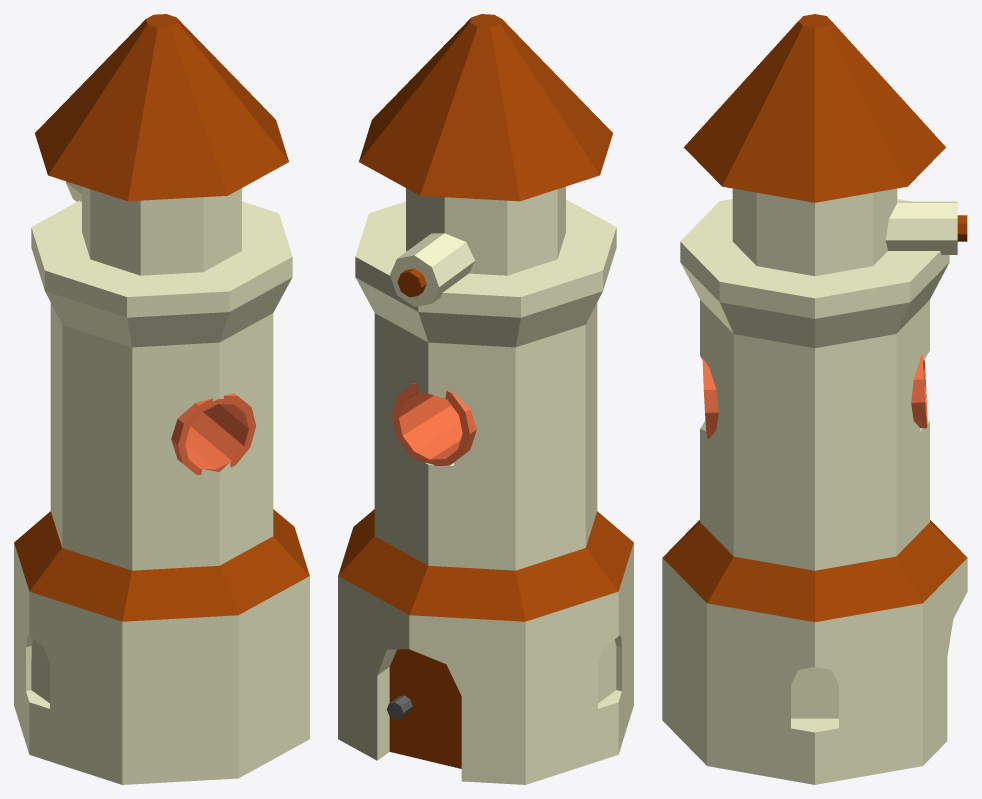
The model's file is WindmillBase.glb.
3 views of the same model, side by side, from view 1: azimuth 30°, elevation 25°; view 2: azimuth 150°, elevation 25°; view 3: azimuth 270°, elevation 25° (orthographic).
Visible parts, largest first — view 1: Cylinder, Cylinder.003; view 2: Cylinder, Cylinder.003, Cylinder.002; view 3: Cylinder, Cylinder.002, Cylinder.003.
Boxes of the visible parts, bbox=[...] form: Cylinder: bbox=[14, 14, 309, 784]; Cylinder.003: bbox=[171, 393, 256, 474]; Cylinder: bbox=[338, 14, 633, 784]; Cylinder.003: bbox=[391, 383, 476, 466]; Cylinder.002: bbox=[390, 233, 474, 306]; Cylinder: bbox=[662, 14, 967, 784]; Cylinder.002: bbox=[885, 201, 967, 254]; Cylinder.003: bbox=[702, 354, 927, 438].
Bounding box in the file's own units: 2.58 × 6.52 × 2.58.
